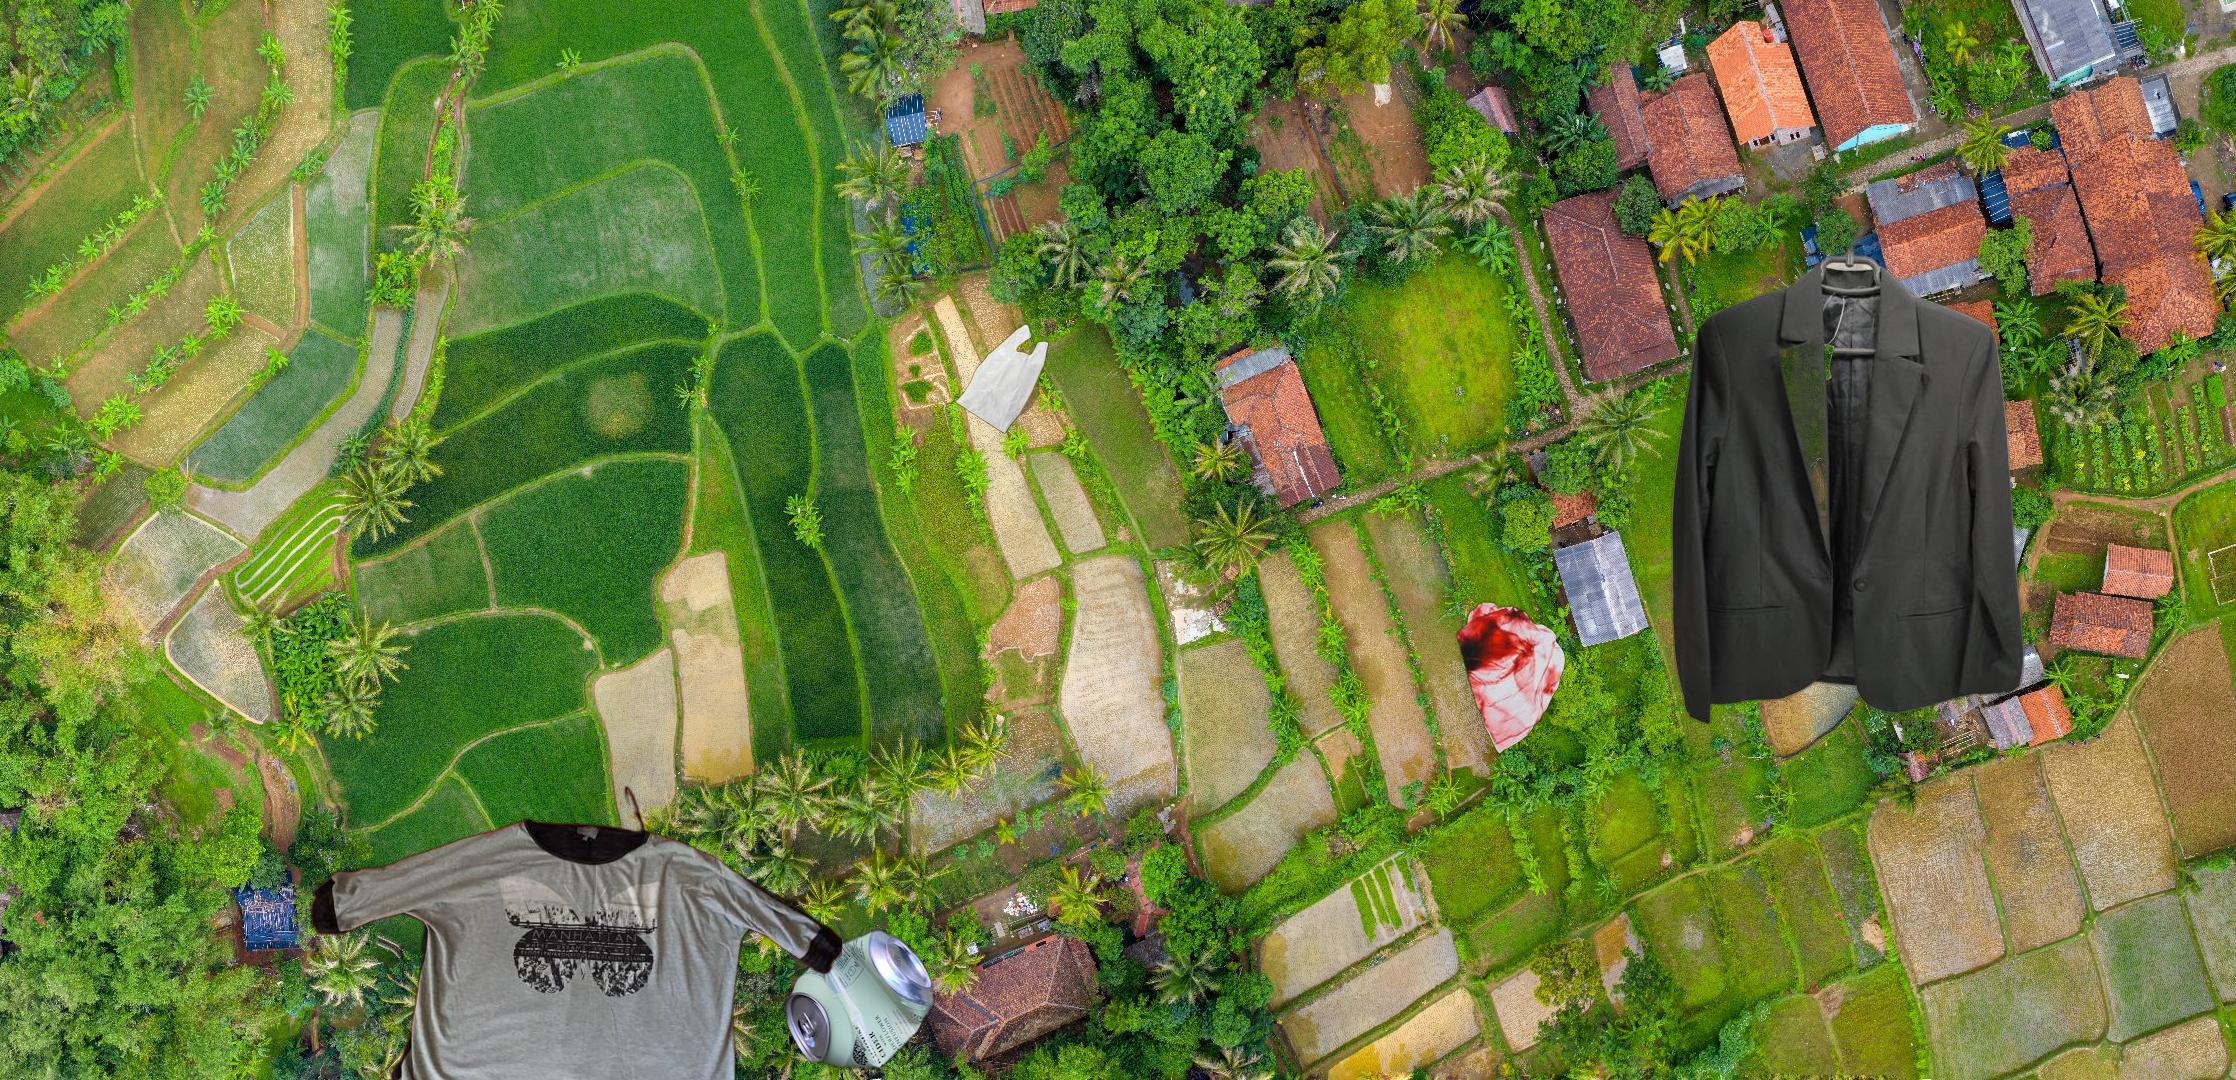clothes: (1656, 225, 2028, 729), (308, 783, 841, 1080)
metal-cans: (780, 924, 938, 1074)
plastic-bag: (1455, 598, 1569, 755), (953, 272, 1050, 434)
trashbox-cardboard: (217, 1073, 2236, 1080)
